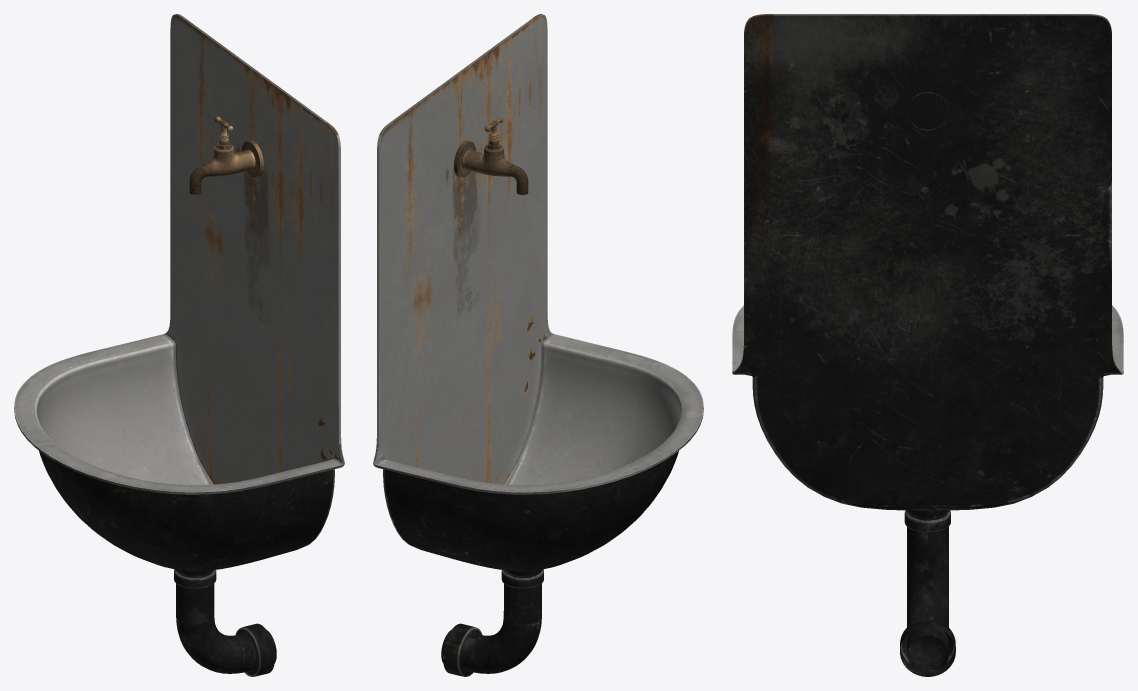
The model's file is old_historical_sink.glb.
3 renders of one model, left to right at view 1: azimuth 30°, elevation 25°; view 2: azimuth 150°, elevation 25°; view 3: azimuth 270°, elevation 25°, orthographic. The views are drawn at different scales.
Parts seen in each view (by area): view 1: Object_2; view 2: Object_2; view 3: Object_2.
Boxes of the visible parts, <box> form: Object_2: <box>14,14,344,676</box>; Object_2: <box>373,14,703,676</box>; Object_2: <box>732,14,1123,676</box>.
Bounding box in the file's own units: 41.15 × 105 × 56.69.
Materials: 1 (1 with a texture image).
